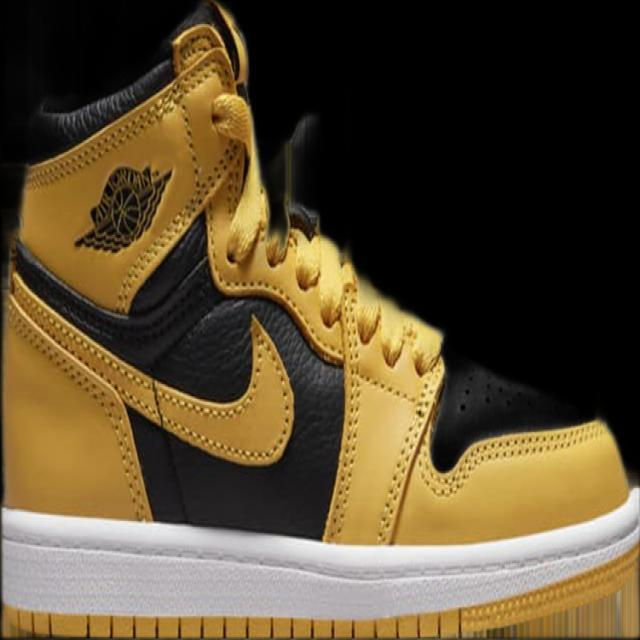J1_InsoleChar: (0, 0, 639, 639)
J1_ShoeLogo: (72, 161, 173, 255)
J1_StitchPattern: (4, 262, 611, 541), (24, 23, 246, 315), (0, 543, 639, 639), (4, 267, 296, 468), (372, 362, 607, 544), (5, 268, 156, 523), (321, 261, 444, 545), (23, 49, 233, 189), (0, 601, 639, 639), (414, 415, 609, 499), (373, 357, 445, 545), (321, 260, 365, 544)
